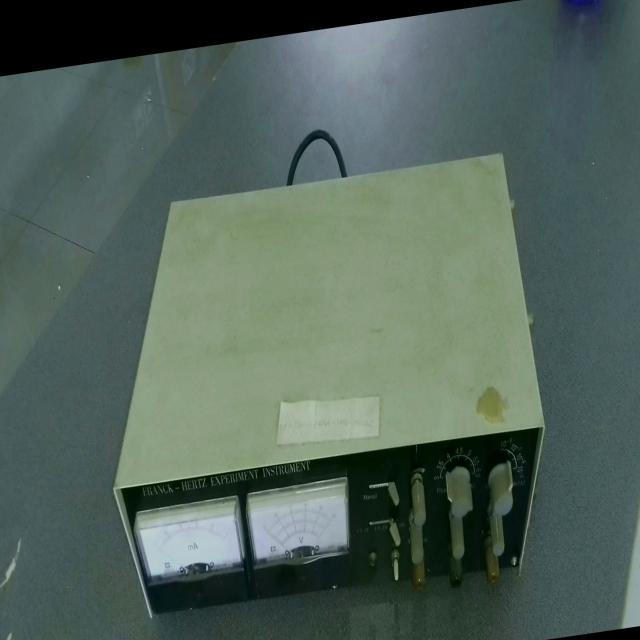Frank-Hertz Experiment Apparatus: (101, 128, 562, 640)
